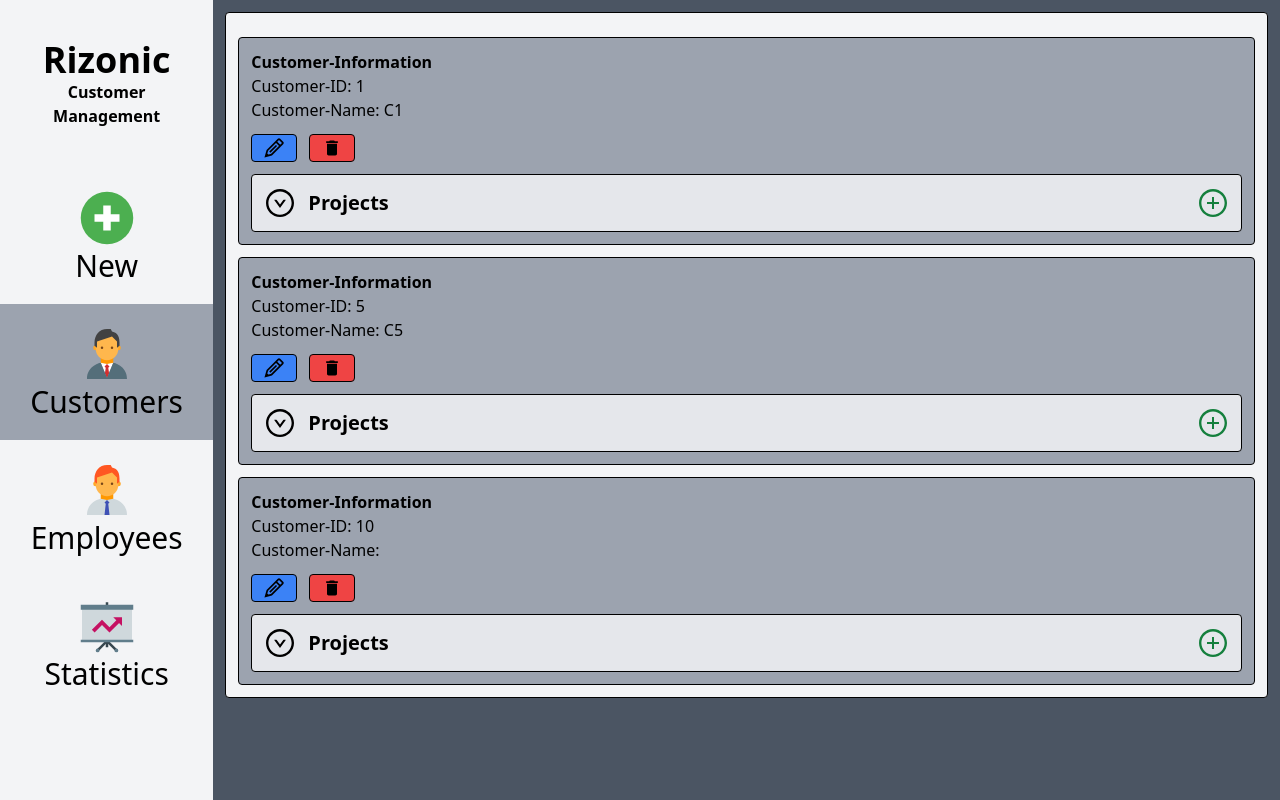
Test case: edit customer › open edit customer modal
Click the button with test id "edit-customer-icon" at (274, 148), box [251,134,297,162]
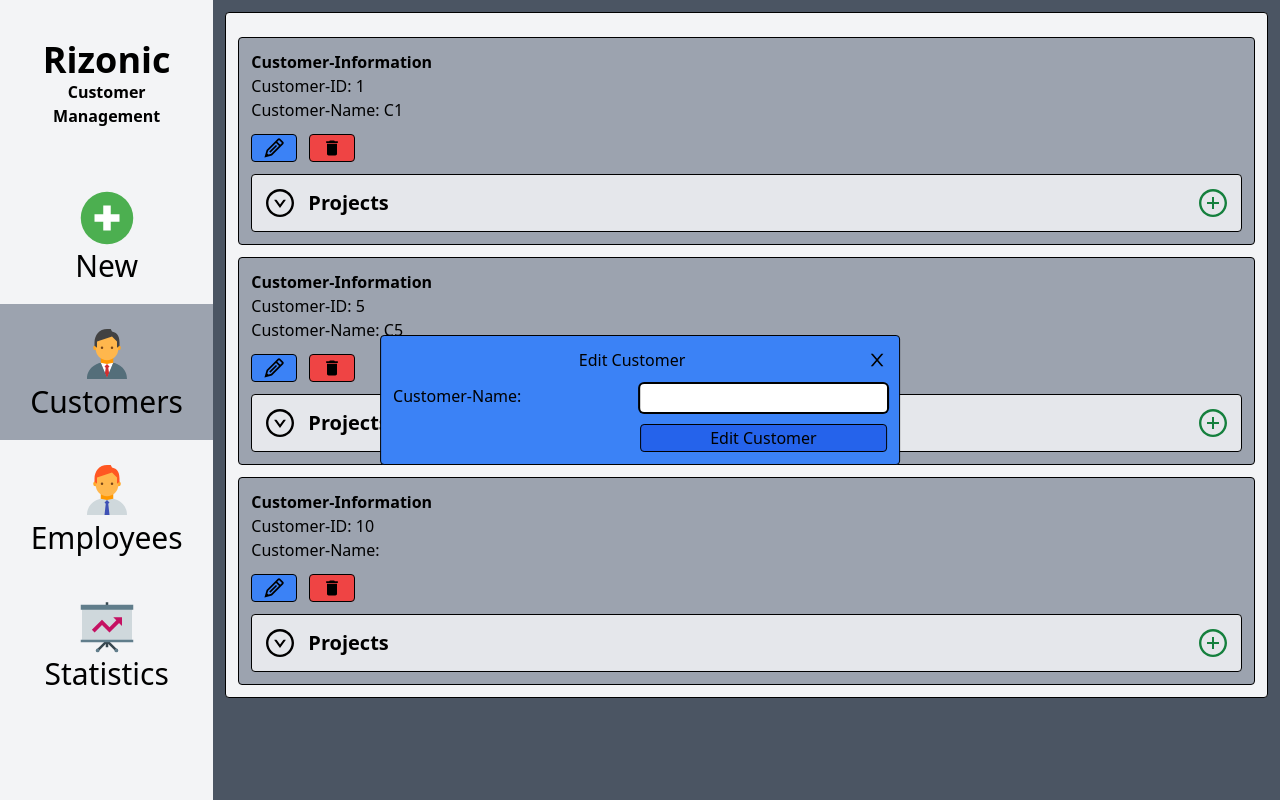
Expected: the heading "Edit Customer" is shown, [579,348,685,372]
